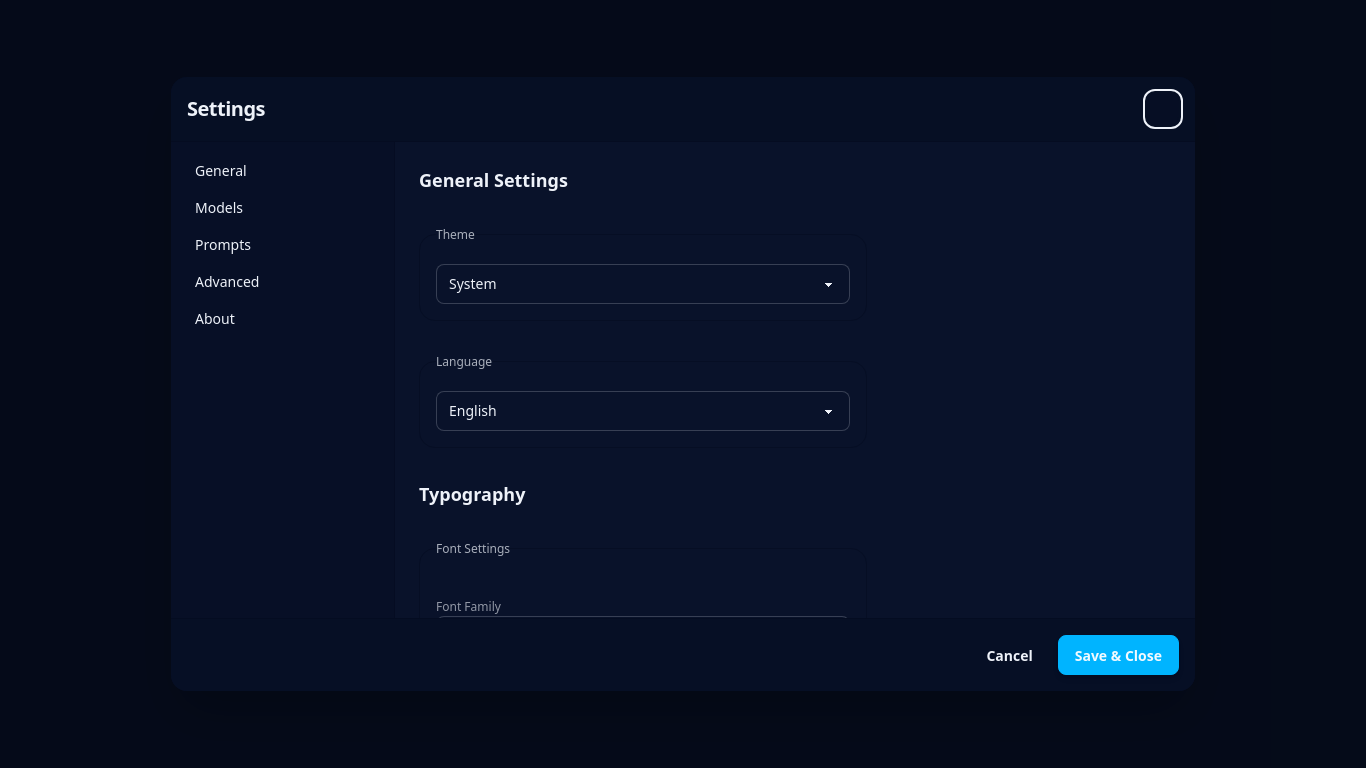
Test case: SettingsModal Component › switches tabs
Expected: the heading "General Settings" is shown, [419, 168, 568, 192]
Note: Switch to LLM
Click the button "Models" at (282, 207), box [183, 191, 382, 224]
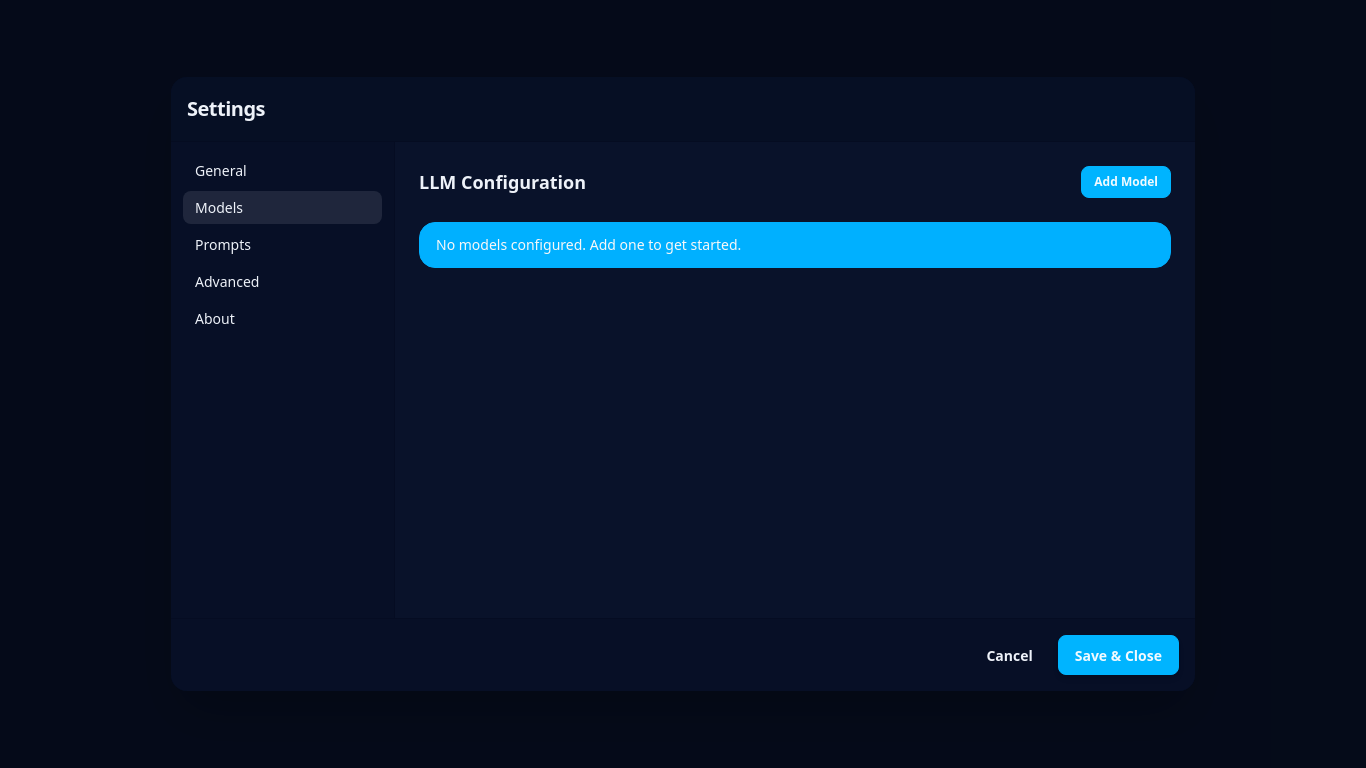
Expected: the heading "LLM Configuration" is shown, [419, 168, 586, 196]
Note: Switch to Advanced
Click the button "Advanced" at (282, 281), box [183, 265, 382, 298]
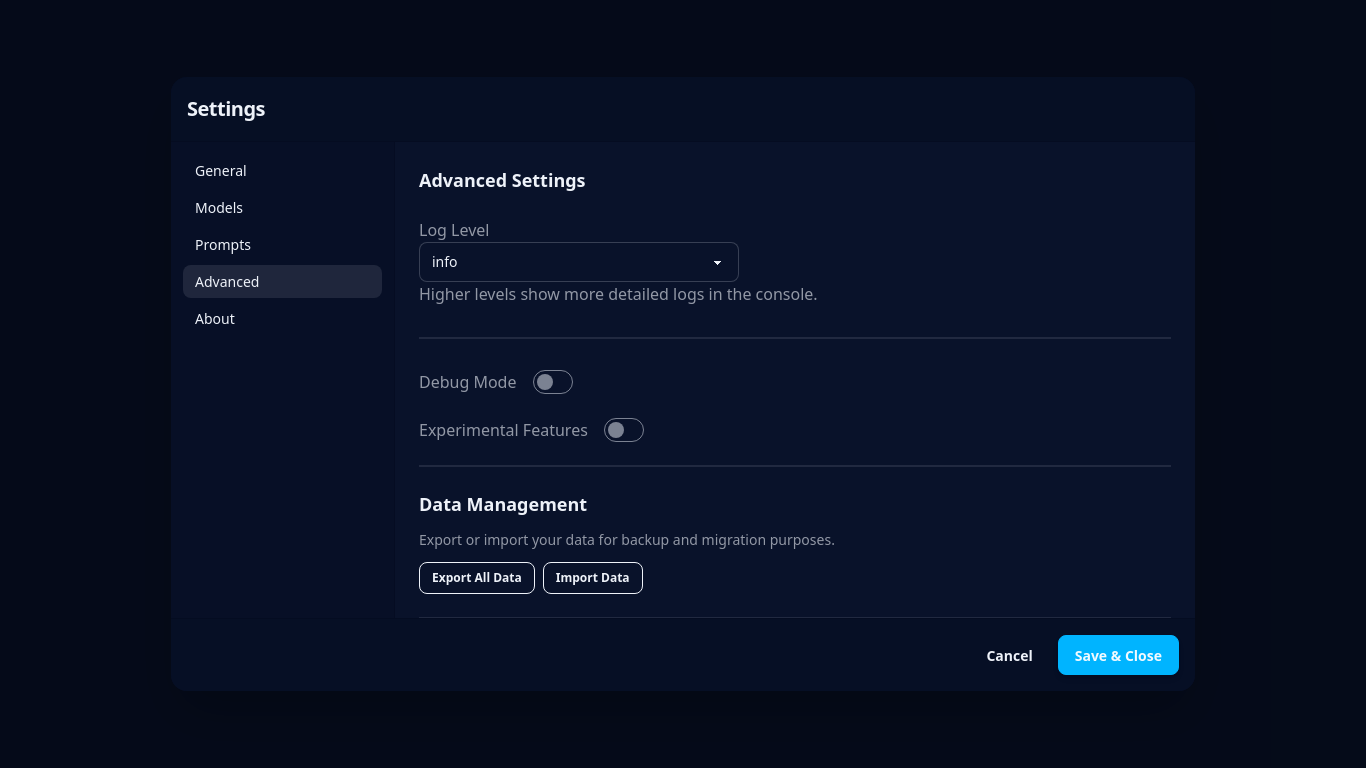
Expected: the heading "Advanced Settings" is shown, [419, 168, 586, 192]
Expected: the dropdown is shown, [419, 242, 739, 282]
